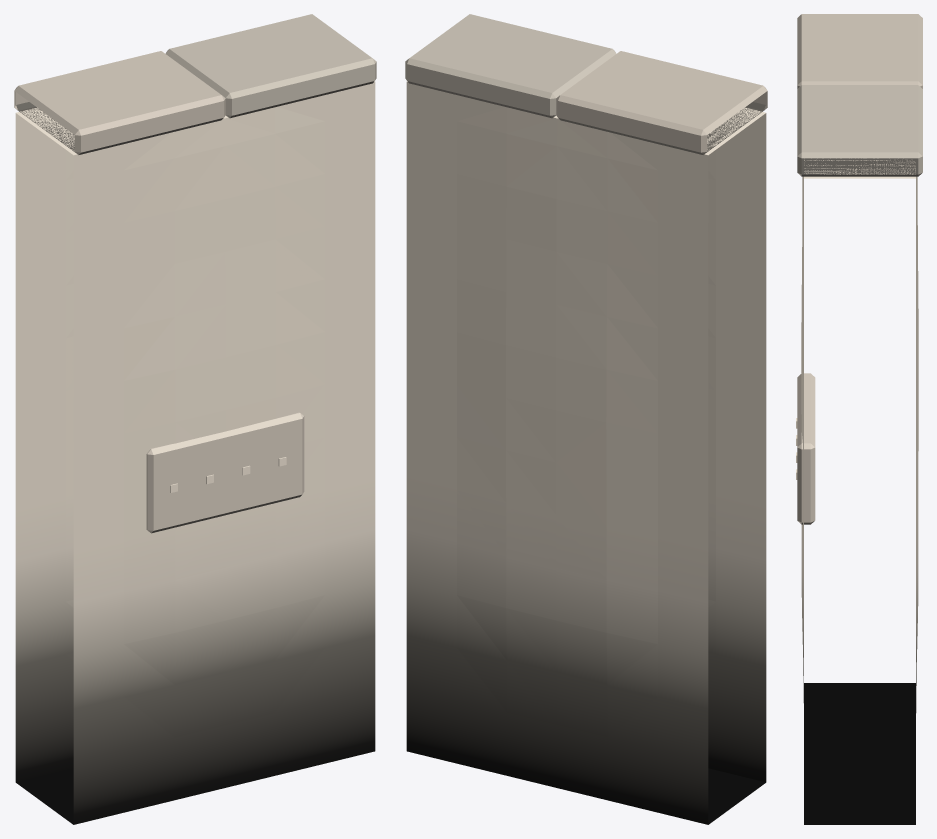
The model's file is SM_VKI_Wall_Dungeon_DartTrap_150_Full.fbx.
3 views of the same model, side by side, from view 1: azimuth 30°, elevation 25°; view 2: azimuth 150°, elevation 25°; view 3: azimuth 270°, elevation 25° (orthographic). The views are drawn at different scales.
Parts seen in each view (by area): view 1: SM_VKI_Wall_Dungeon_DartTrap_150_Full.001; view 2: SM_VKI_Wall_Dungeon_DartTrap_150_Full.001; view 3: SM_VKI_Wall_Dungeon_DartTrap_150_Full.001.
Part boxes in pixels (<box>): SM_VKI_Wall_Dungeon_DartTrap_150_Full.001: <box>14,14,376,824</box>; SM_VKI_Wall_Dungeon_DartTrap_150_Full.001: <box>405,14,767,824</box>; SM_VKI_Wall_Dungeon_DartTrap_150_Full.001: <box>796,14,922,824</box>.
Bounding box in the file's own units: 1.5 × 3.3 × 0.565.
